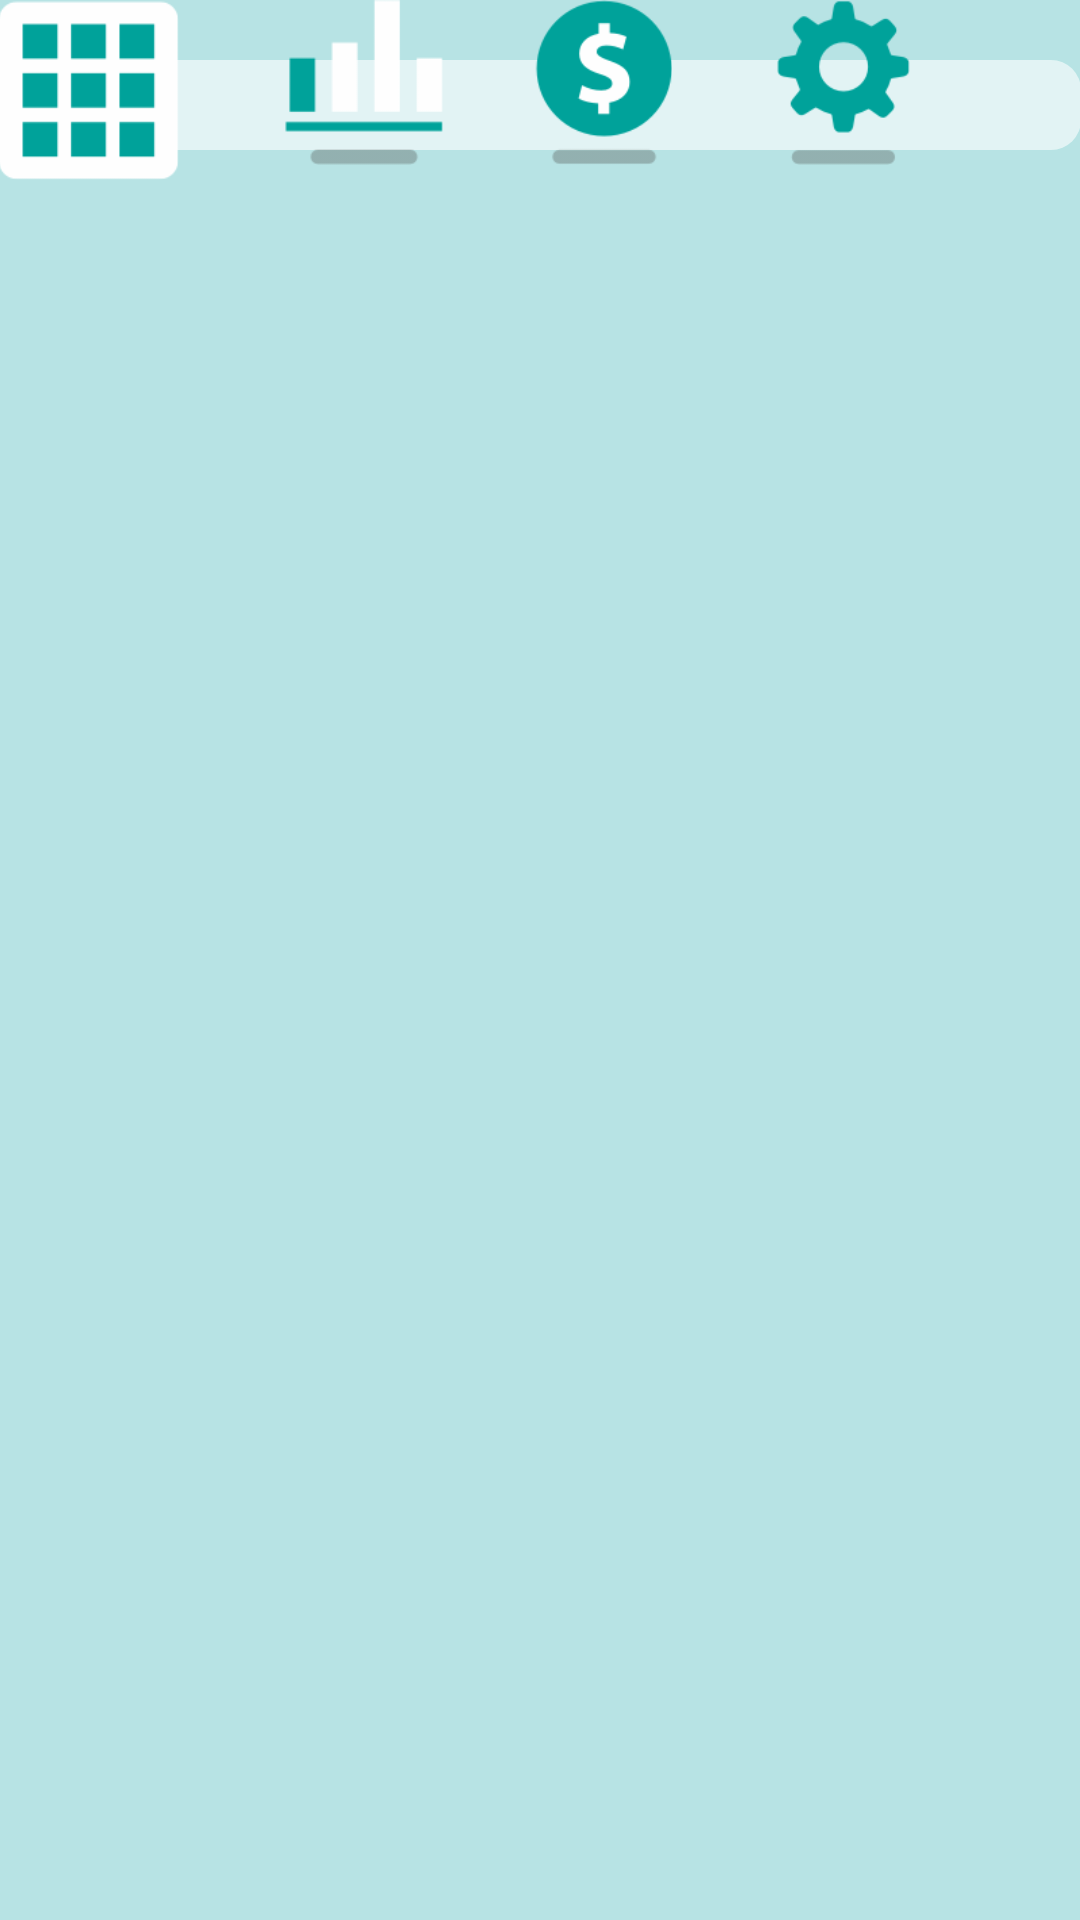

Icon click points for this 1080 × 1920 phone screenshot, format [x,y]:
chart: [363,82]
menu: [89,90]
plus money: [603,82]
setting: [843,82]
